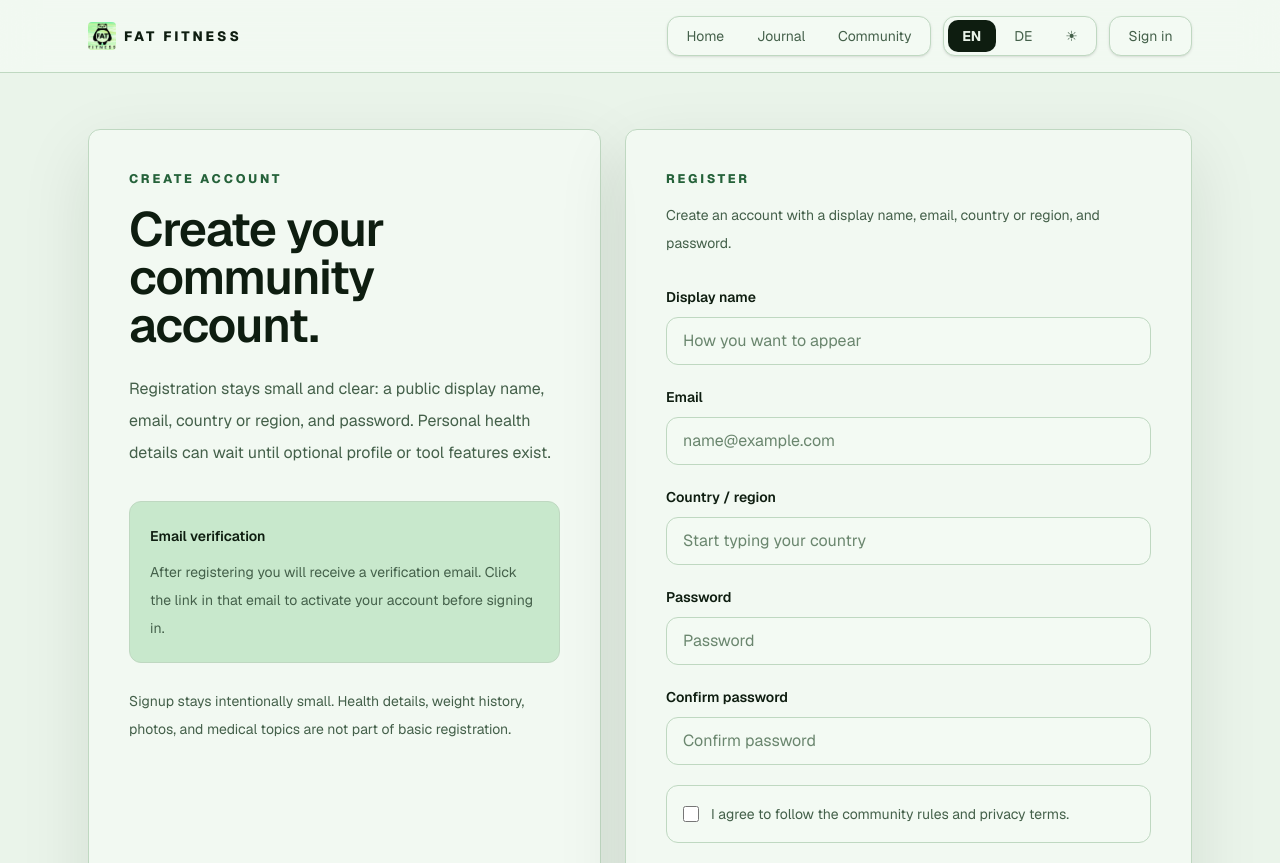
Scenario: AuthAccountView register validation › requires a country selection before anything is sent
In the field labelled "Display name": (908, 341) [666,317,1151,365], type "New Member"
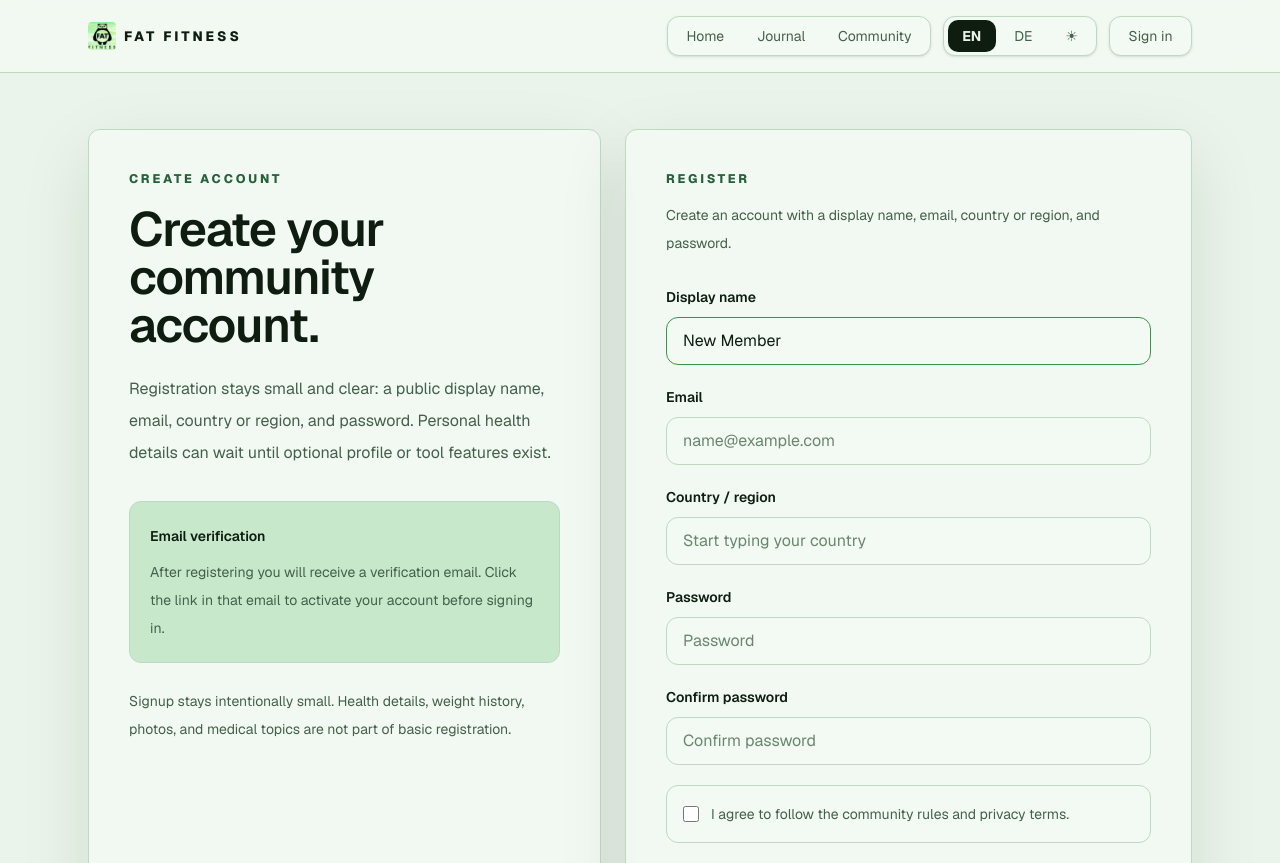
In the field labelled "Email": (908, 441) [666,417,1151,465], type "new-member@example.com"
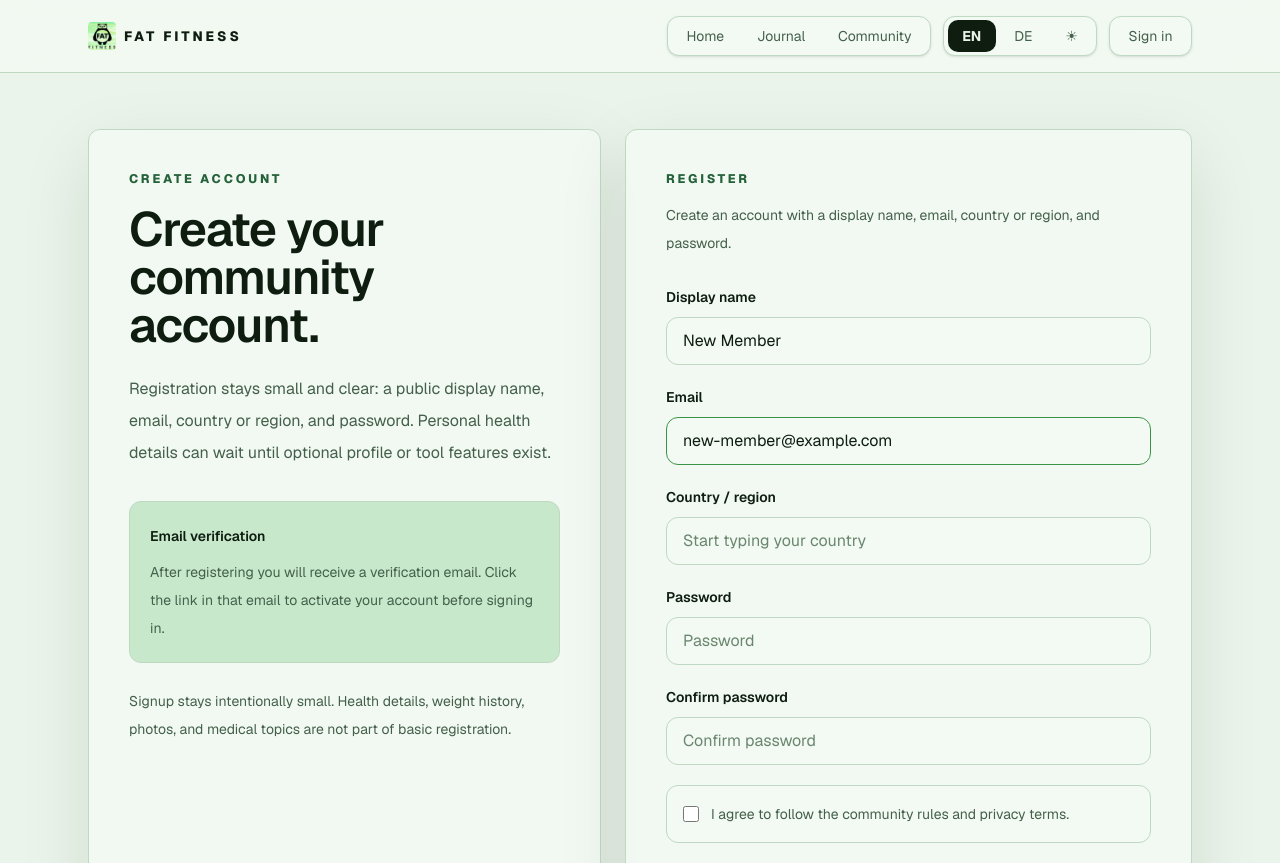
In the password field labelled "Password": (908, 641) [666,617,1151,665], type "very-secret-password"
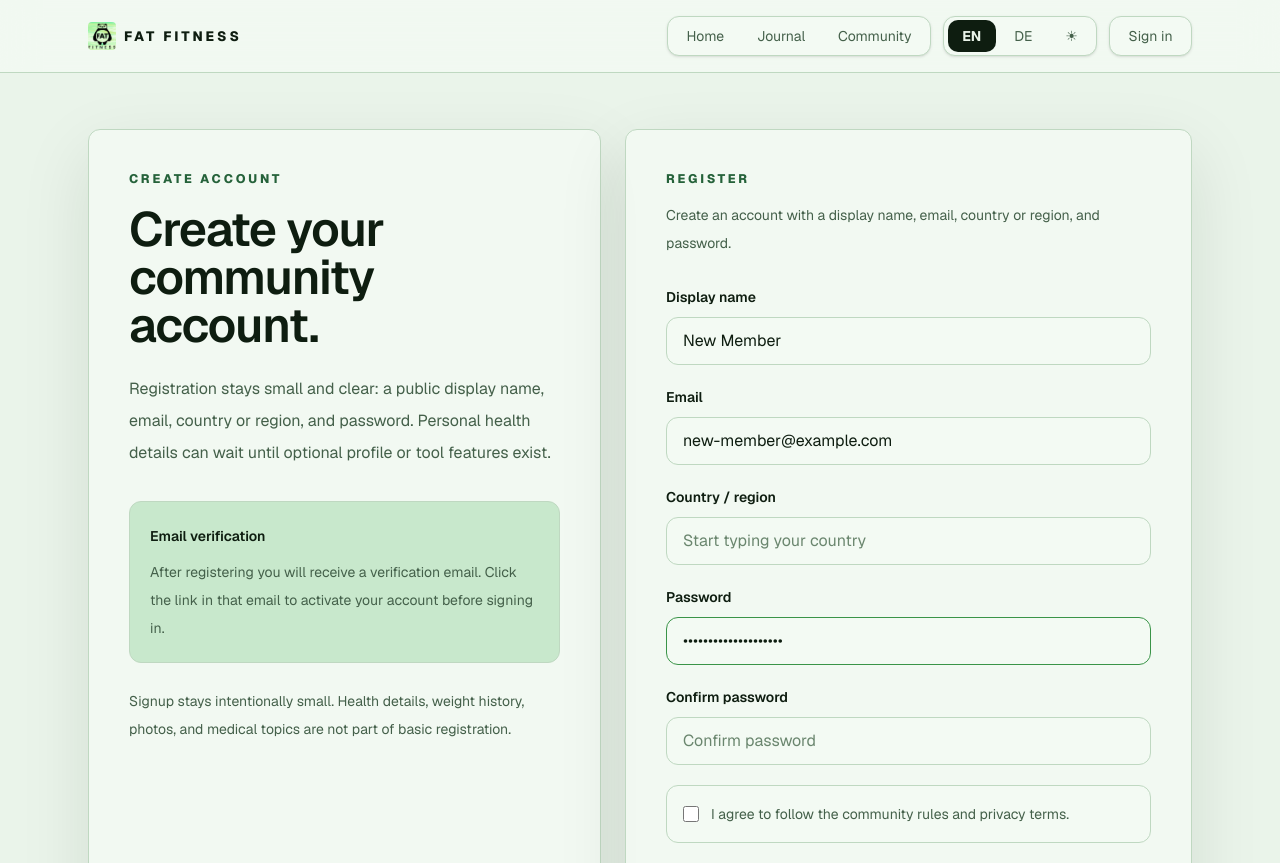
In the password field labelled "Confirm password": (908, 741) [666,717,1151,765], type "very-secret-password"
(page scrolled)
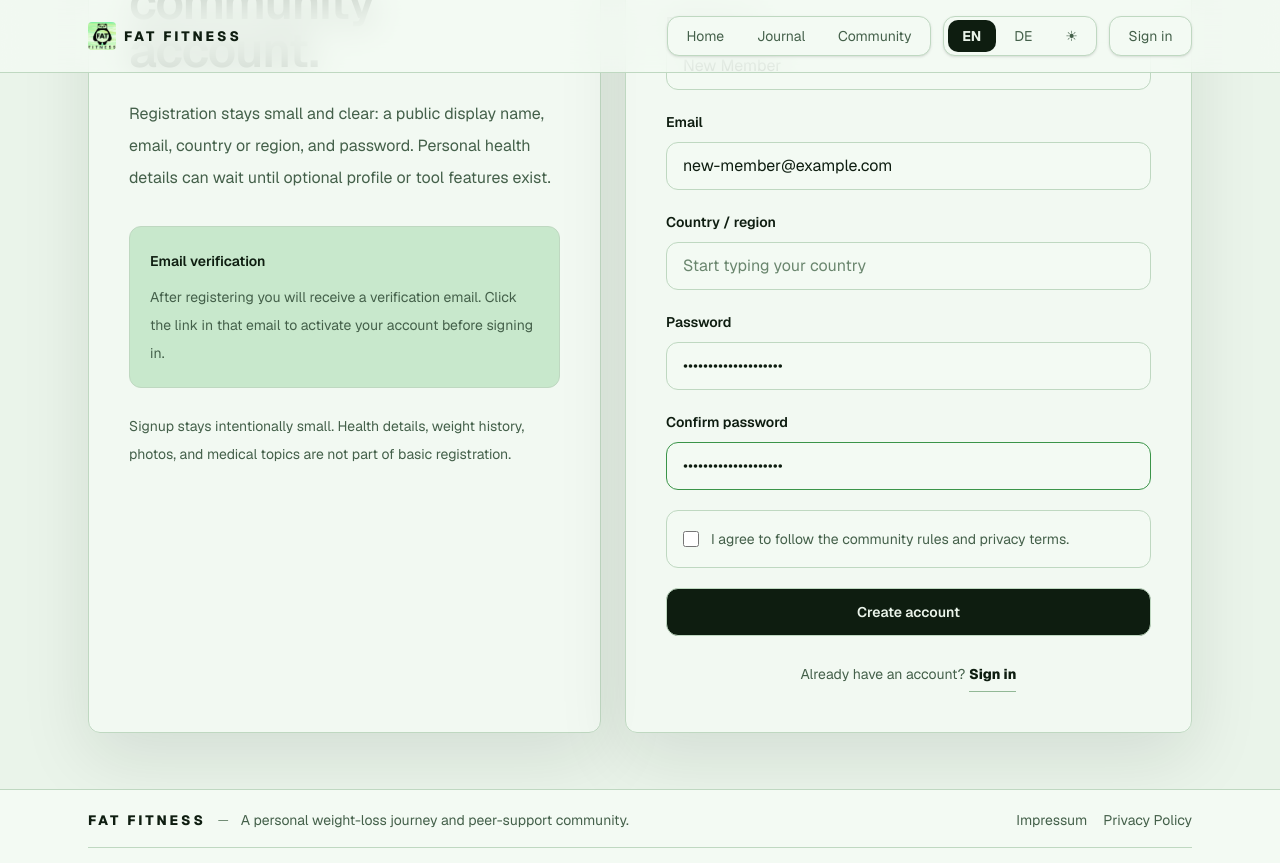
Click the button "Create account": (908, 612) [666,588,1151,636]
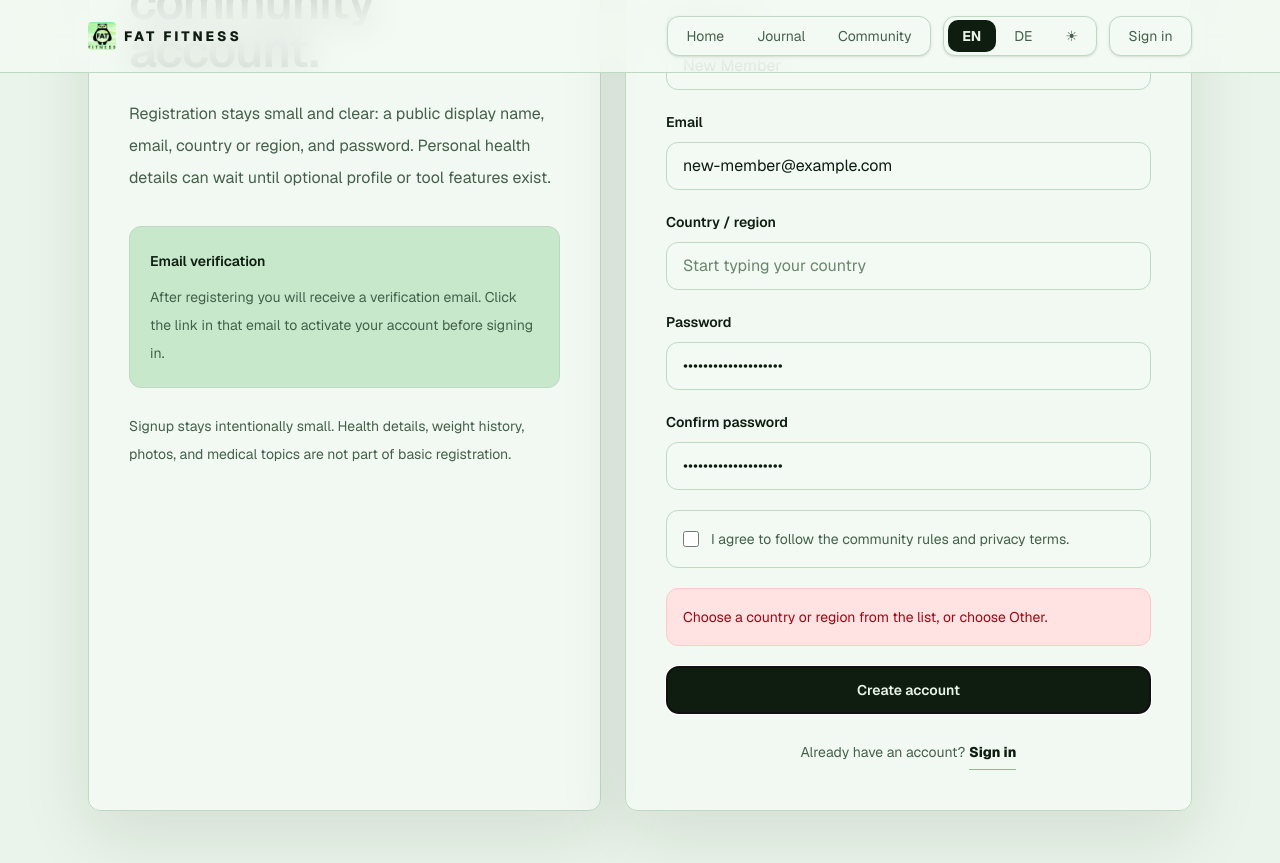
Expected: the message reads "Choose a country or region from the list, or choose Other.", [683,608,1048,626]
